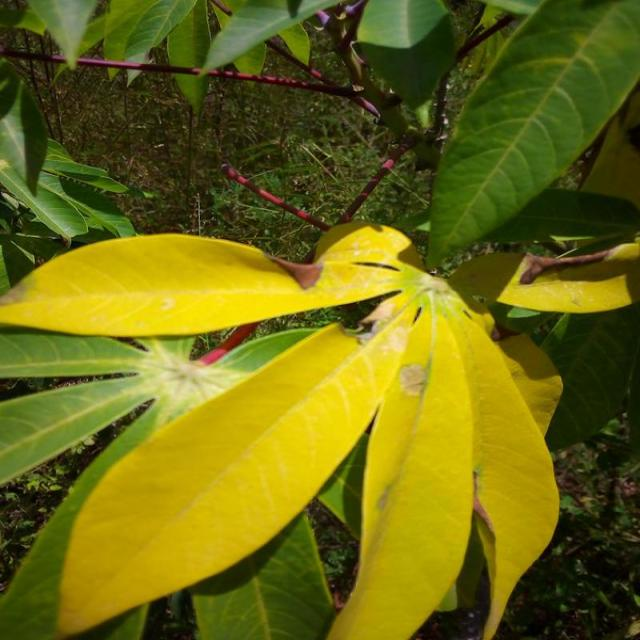cassava leaf: (1, 220, 566, 638), (425, 0, 639, 271)
